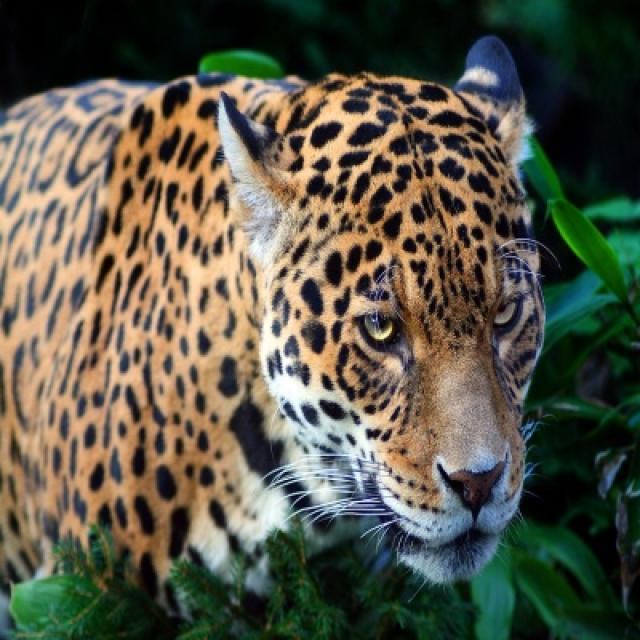not_pig: (0, 34, 555, 635)
